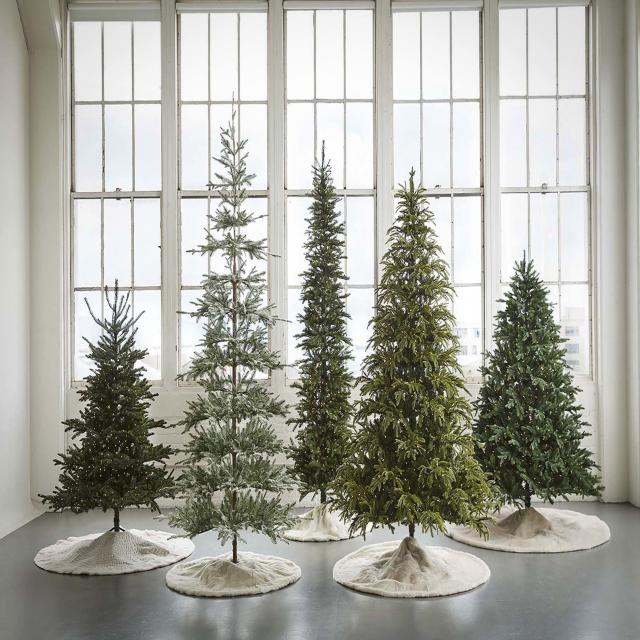Christmas-tree: (476, 252, 611, 506)
